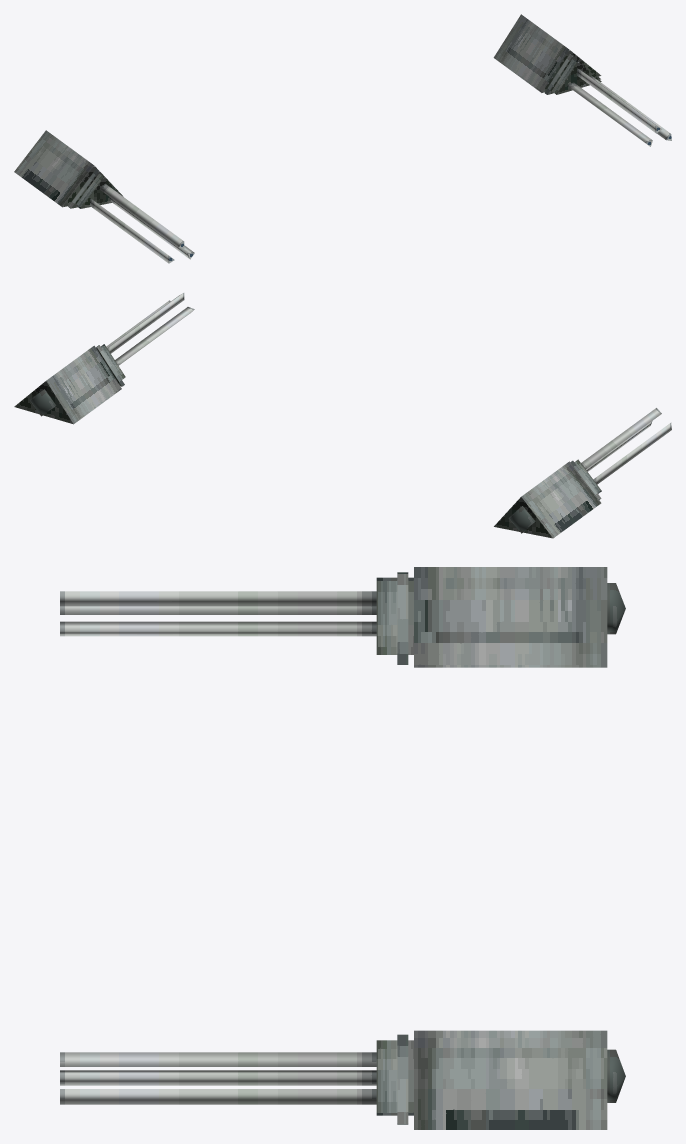
Rendered from black_sun_fighter_medium_weapon2_s04_l2.fbx.
3 views of the same model, one above another, from view 1: azimuth 30°, elevation 25°; view 2: azimuth 150°, elevation 25°; view 3: azimuth 270°, elevation 25° (orthographic). The views are drawn at different scales.
Parts seen in each view (by area): view 1: mesh_node; view 2: mesh_node; view 3: mesh_node.
Boxes of the visible parts, x1=… form: mesh_node: x1=14, y1=14, x2=671, y2=263; mesh_node: x1=14, y1=293, x2=671, y2=538; mesh_node: x1=60, y1=567, x2=625, y2=1129.
Size of the model in its own units: 7.73 by 0.5049 by 3.51.
Materials: 1 (1 with a texture image).
